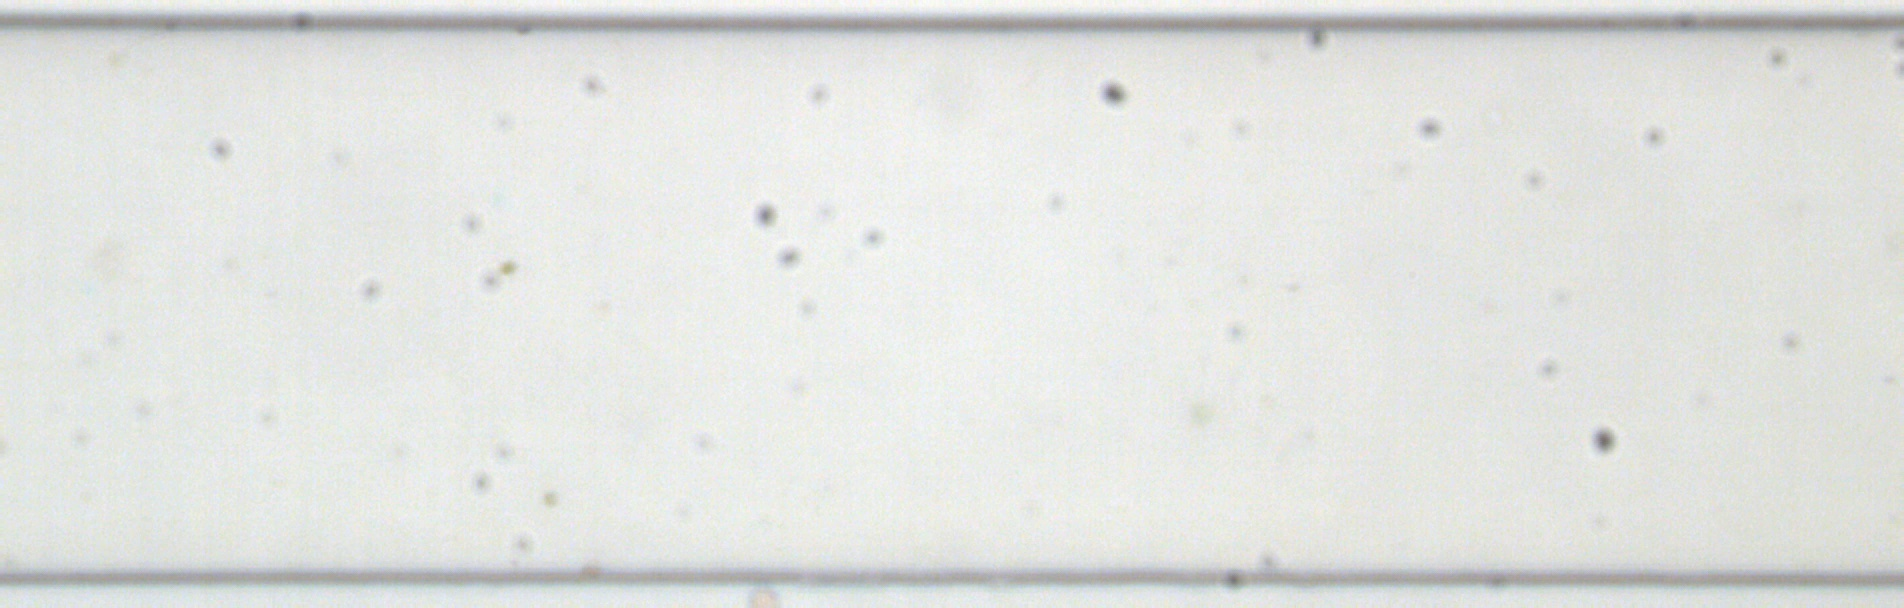Chlorella: (1189, 400, 1211, 424), (542, 488, 559, 506), (500, 258, 516, 275)
